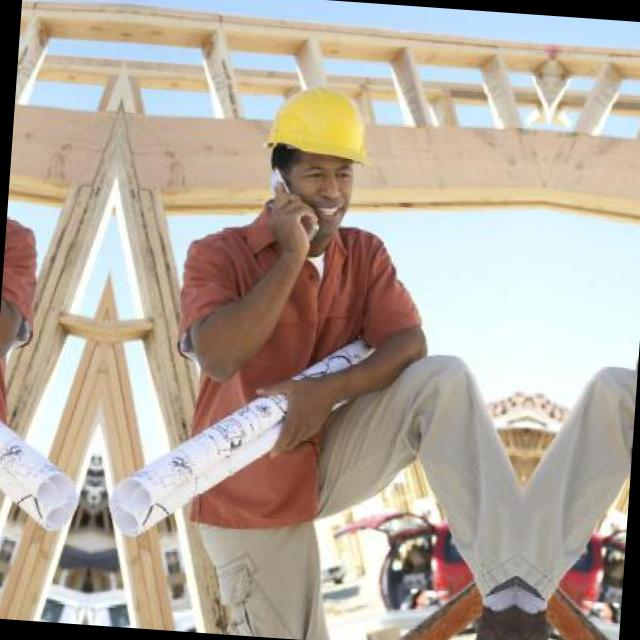helmet: (252, 79, 374, 242)
